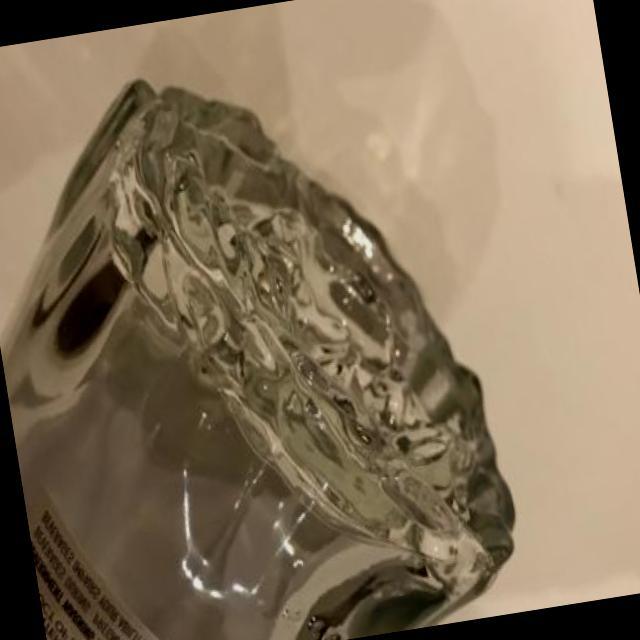chai_thuy_tinh: (0, 79, 513, 640)
